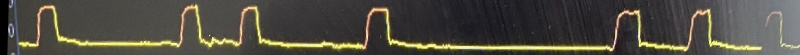normal_pressure: (0, 0, 798, 55)
